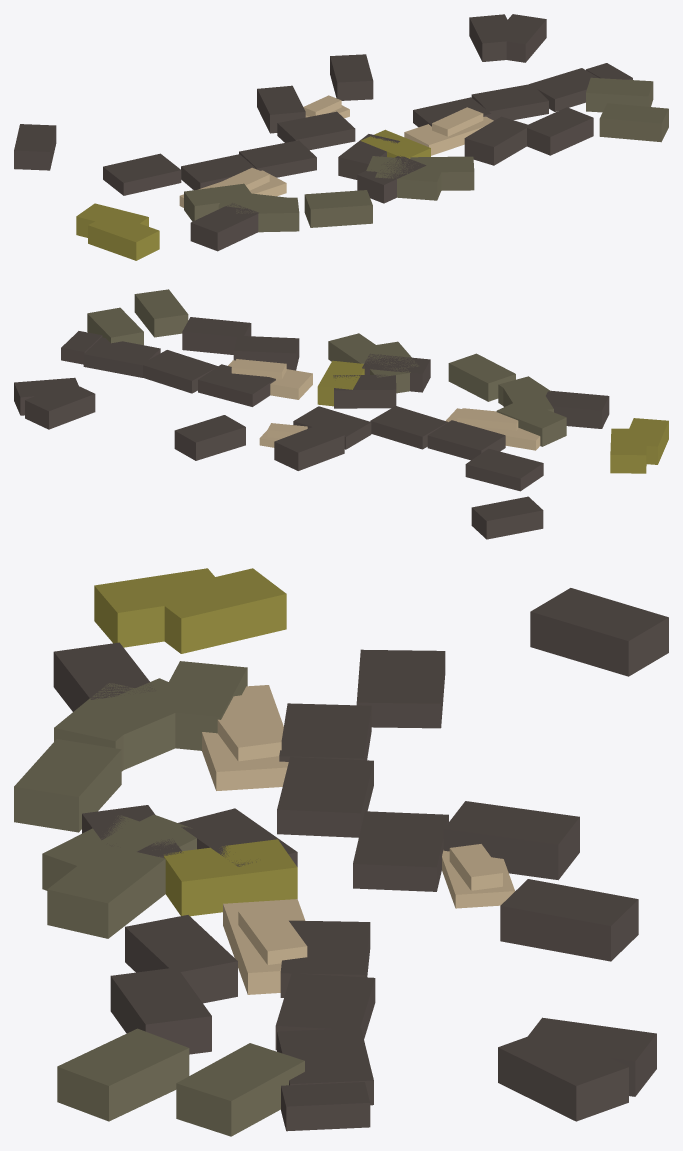
File: SM_MuroSacos_v2_Irregular_e3_Brecha_LOD0.fbx
3 views of the same model, one above another, from view 1: azimuth 30°, elevation 25°; view 2: azimuth 150°, elevation 25°; view 3: azimuth 270°, elevation 25° (orthographic). The views are drawn at different scales.
Parts seen in each view (by area): view 1: SM_bloques.muro_sacos_estados_v11_LOD0; view 2: SM_bloques.muro_sacos_estados_v11_LOD0; view 3: SM_bloques.muro_sacos_estados_v11_LOD0.
Boxes of the visible parts, <box> form: SM_bloques.muro_sacos_estados_v11_LOD0: <box>14,14,668,260</box>; SM_bloques.muro_sacos_estados_v11_LOD0: <box>14,289,668,539</box>; SM_bloques.muro_sacos_estados_v11_LOD0: <box>14,568,668,1136</box>.
Size of the model in its own units: 8.36 by 0.26 by 4.34.
